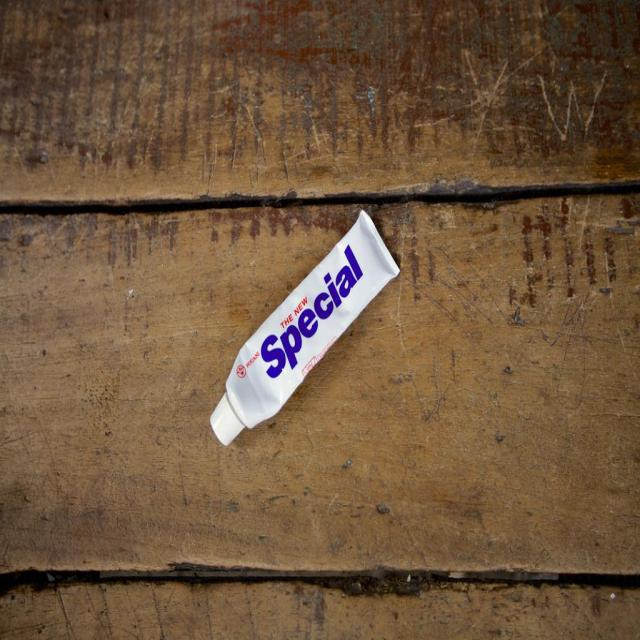Toothpaste: (197, 201, 429, 447)
